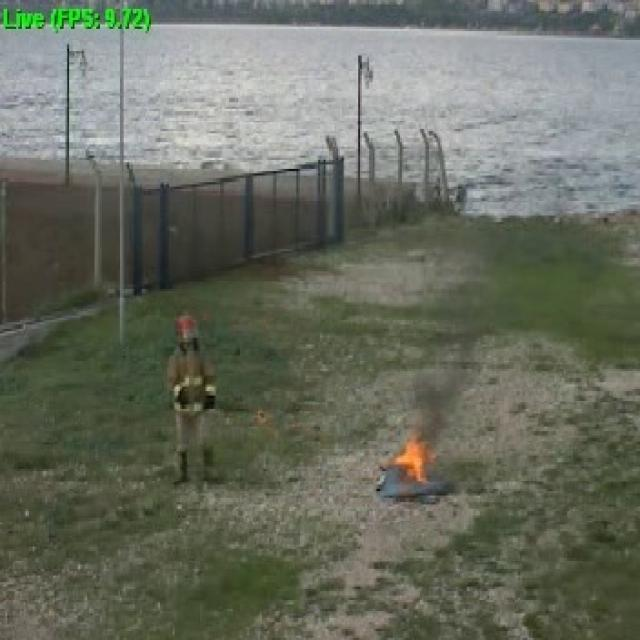fire: (386, 440, 432, 484)
